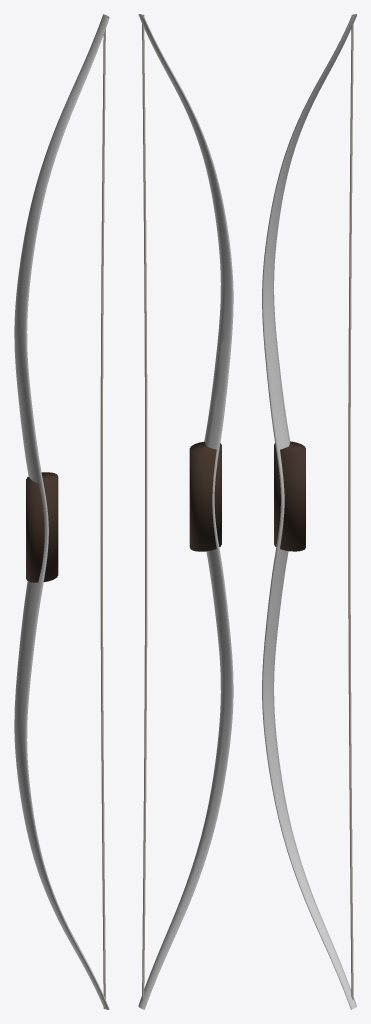
File: vaelari_weapon_recurve_bow_v1.fbx
The picture shows the model from 3 angles, left to right: view 1: azimuth 30°, elevation 25°; view 2: azimuth 210°, elevation 25°; view 3: azimuth 330°, elevation 25°; orthographic projection.
Parts seen in each view (by area): view 1: vaelari_weapon_recurve_bow_v1; view 2: vaelari_weapon_recurve_bow_v1; view 3: vaelari_weapon_recurve_bow_v1.
Boxes of the visible parts, x1,y1,x2,y2 form: vaelari_weapon_recurve_bow_v1: (14, 14, 109, 1009); vaelari_weapon_recurve_bow_v1: (138, 14, 233, 1009); vaelari_weapon_recurve_bow_v1: (262, 14, 356, 1009).
Bounding box in the file's own units: 0.1344 × 1.4 × 0.0345.
